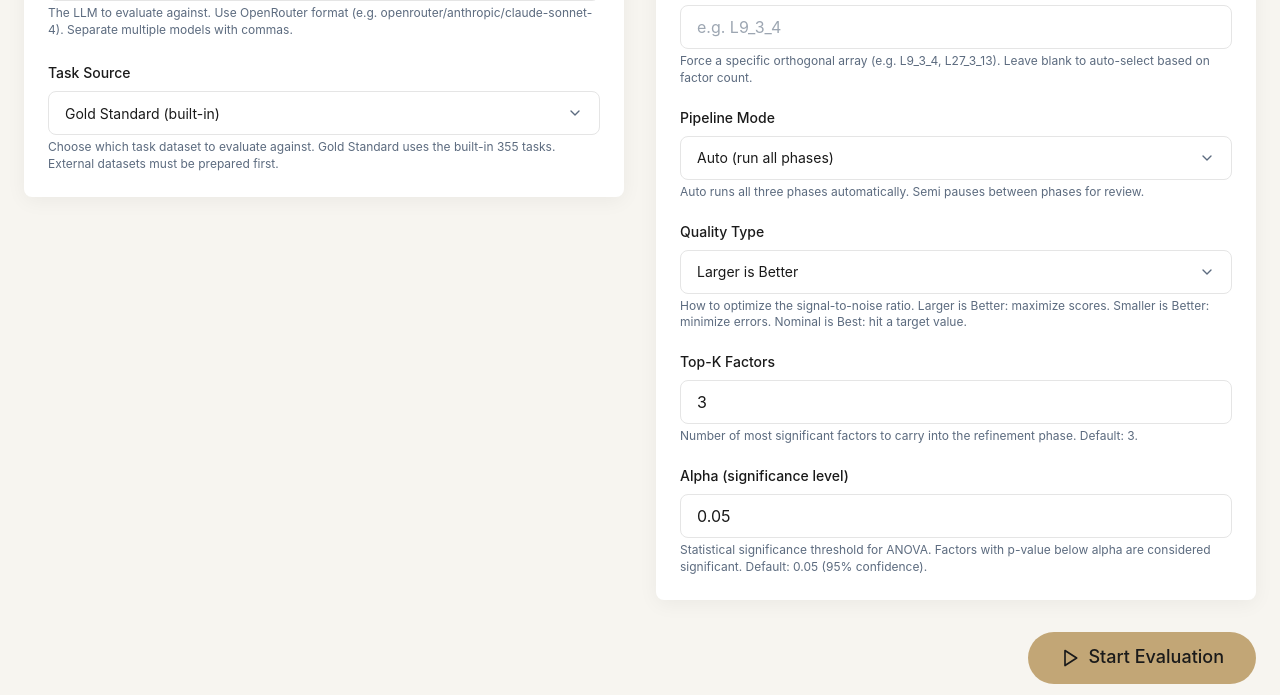
Test: RunConfig › should show error when submitting without model
(page scrolled)
Click the button "Start Evaluation" at (1142, 658), box [1028,632,1256,684]
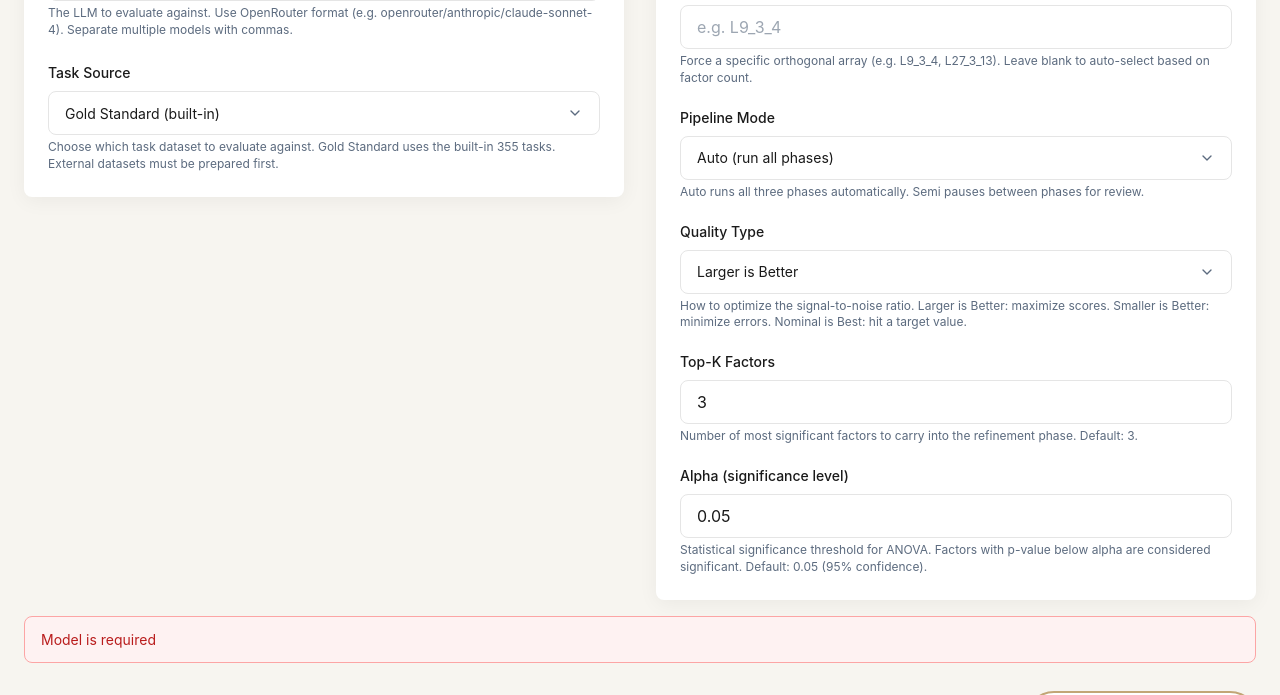
Expected: the text "Model is required" is shown, [24,616,1256,663]
